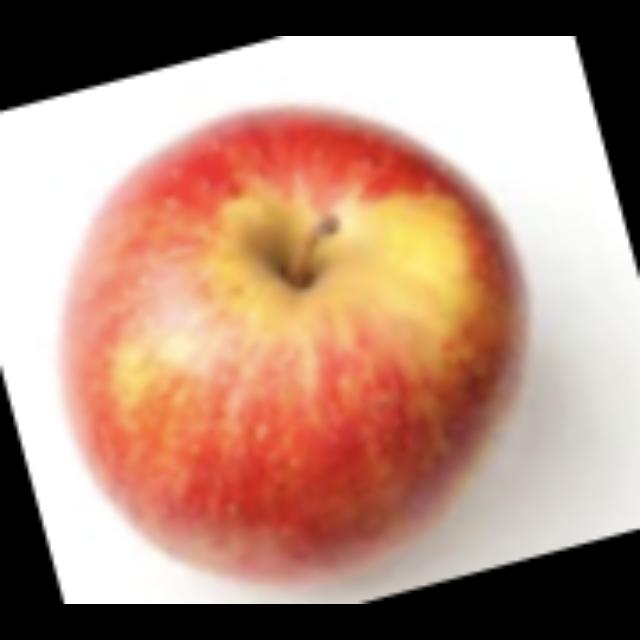Apel Segar: (53, 104, 530, 587)
